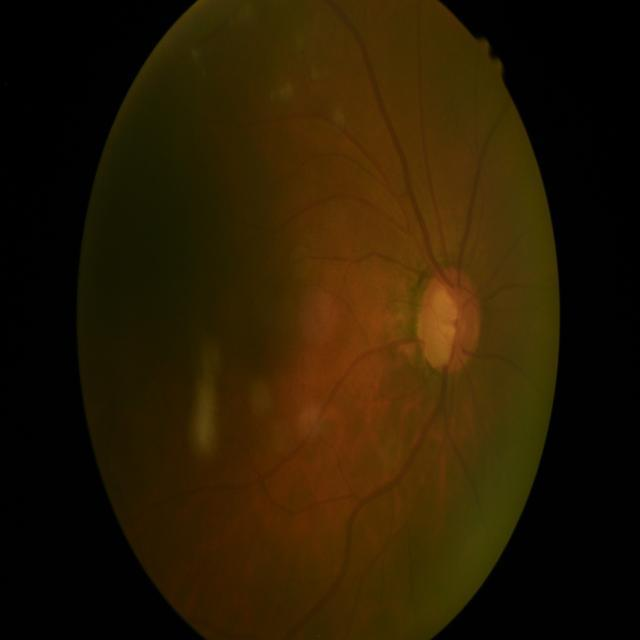cup: (424, 286, 468, 364)
disk: (417, 270, 483, 374)
